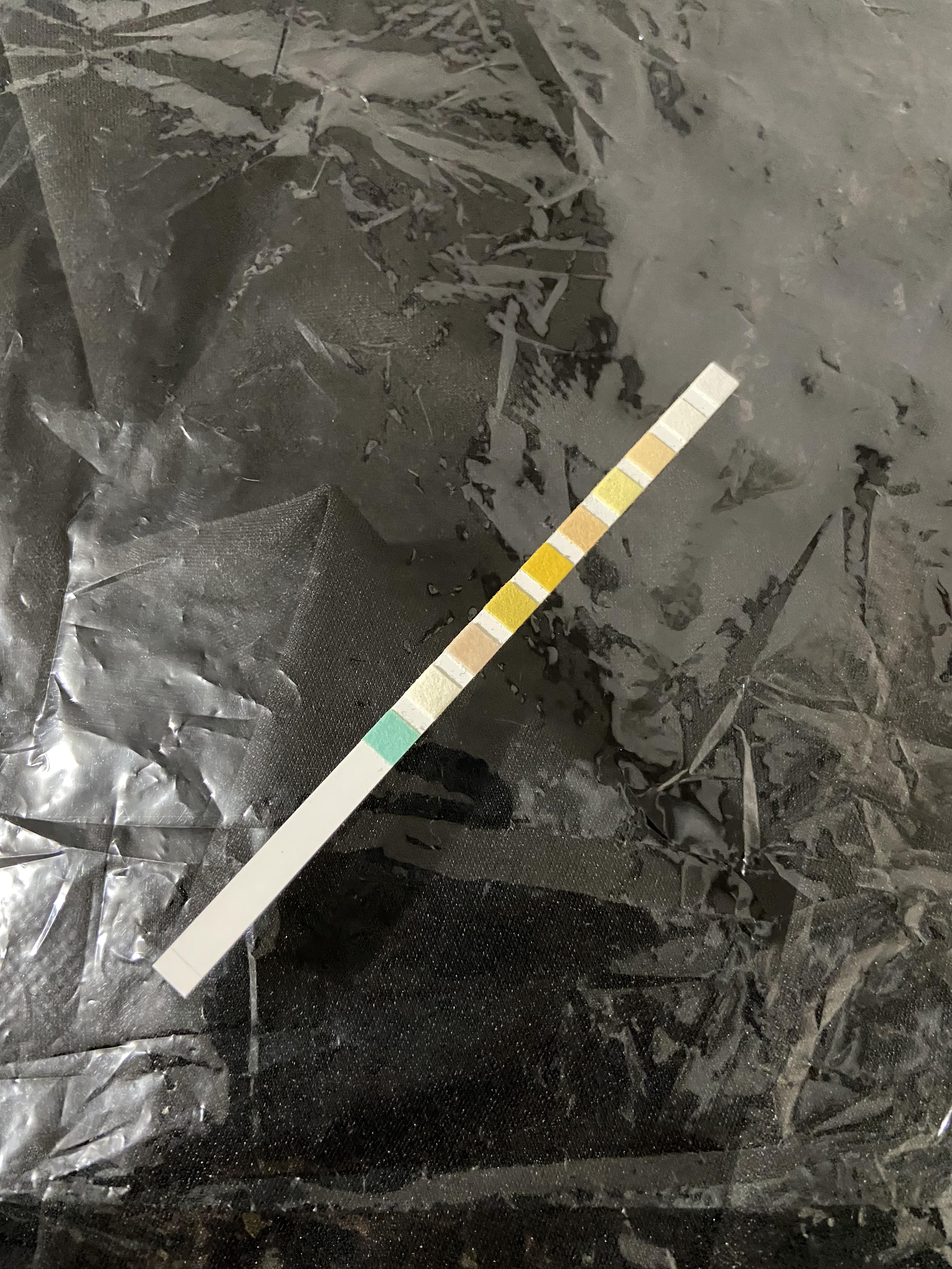Bilirubin: (418, 680, 449, 706)
Blood: (534, 556, 564, 578)
Glucose: (377, 723, 408, 752)
Ketone: (459, 636, 489, 661)
Leukocytes: (704, 376, 730, 394)
Nitrite: (671, 410, 697, 429)
Protein: (604, 480, 632, 501)
SpGravity: (497, 595, 527, 619)
Urobilinogen: (638, 443, 664, 465)
pH: (569, 516, 596, 540)
strip: (153, 360, 743, 997)
